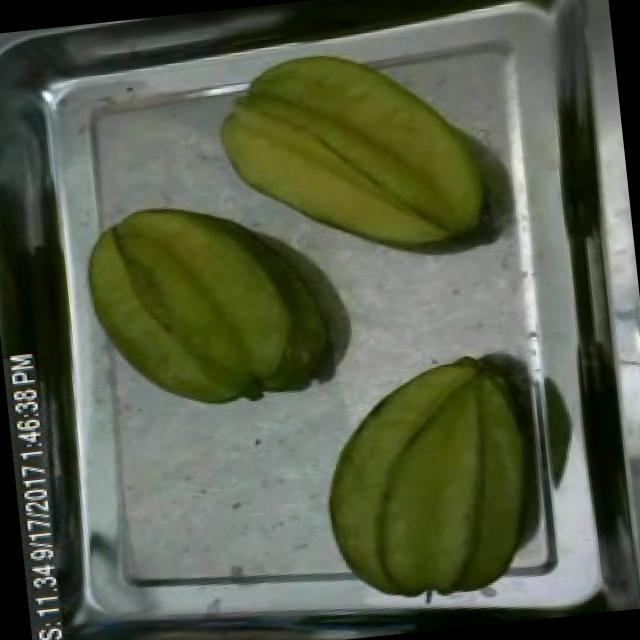fruit: (202, 25, 510, 282), (304, 338, 556, 614), (69, 180, 318, 426)
